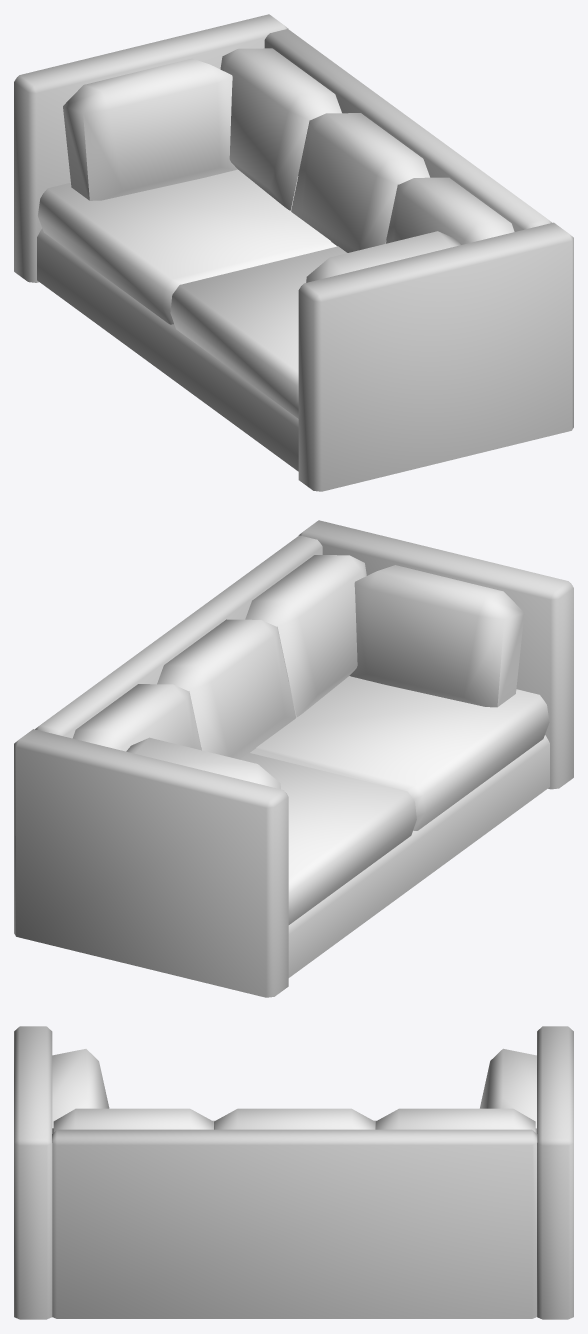
Rendered from sofa.glb.
3 views of the same model, one above another, from view 1: azimuth 30°, elevation 25°; view 2: azimuth 150°, elevation 25°; view 3: azimuth 270°, elevation 25° (orthographic). The views are drawn at different scales.
Parts seen in each view (by area): view 1: sofa; view 2: sofa; view 3: sofa.
Boxes of the visible parts, box(x1,y1,x2,y2) form: sofa: box(14, 14, 573, 491); sofa: box(14, 520, 573, 997); sofa: box(14, 1026, 573, 1319).
Size of the model in its own units: 1.01 by 0.7309 by 2.05.
1 material, 1 textured.
